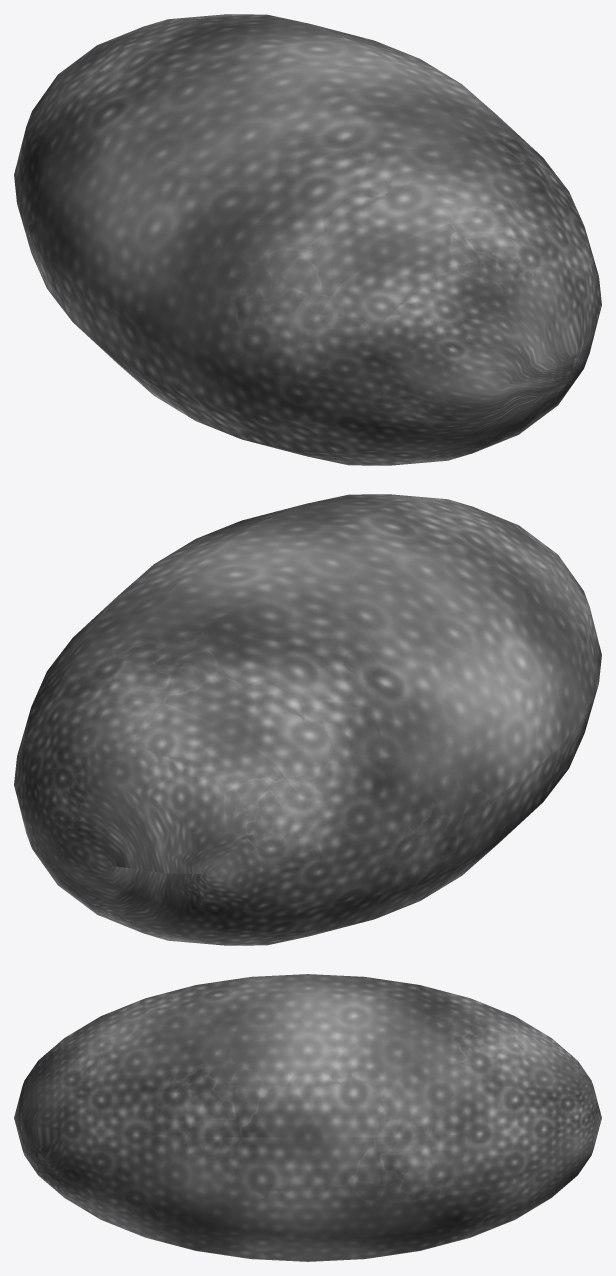
The model's file is player_shield.fbx.
3 renders of one model, top to bottom at view 1: azimuth 30°, elevation 25°; view 2: azimuth 150°, elevation 25°; view 3: azimuth 270°, elevation 25°, orthographic. The views are drawn at different scales.
Visible parts, largest first — view 1: Shield; view 2: Shield; view 3: Shield.
Part boxes in pixels (left/top/right/bottom): Shield: left=14, top=14, right=601, bottom=465; Shield: left=14, top=494, right=601, bottom=945; Shield: left=14, top=974, right=601, bottom=1261.
Bounding box in the file's own units: 1.1 × 0.8088 × 1.74.
